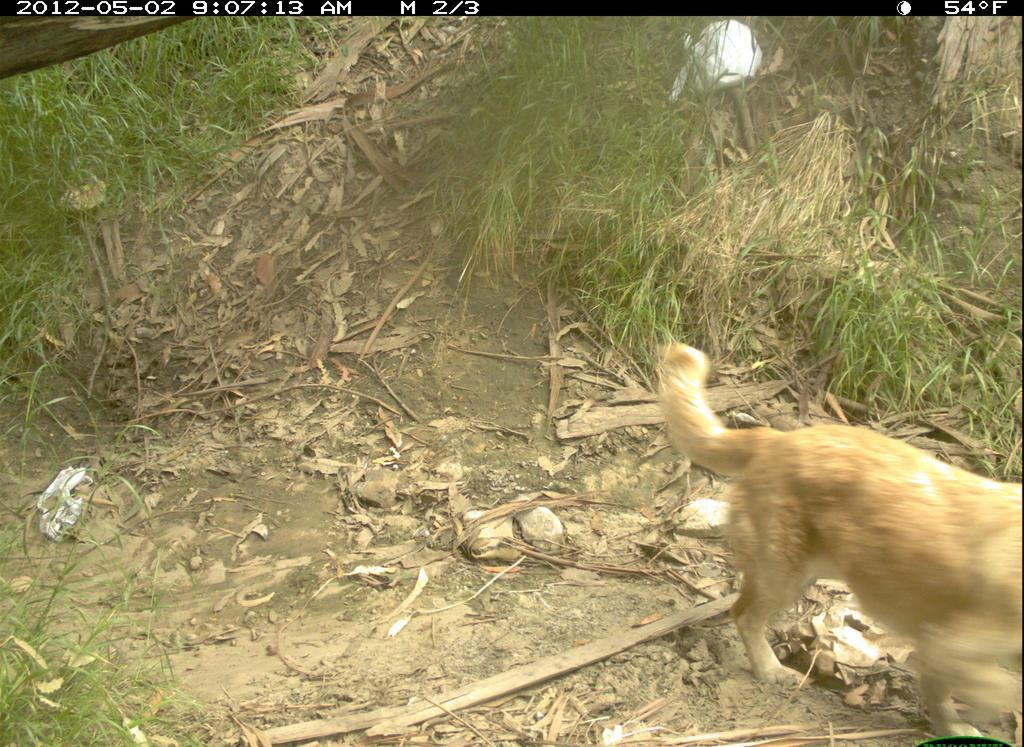dog: (651, 335, 1022, 742)
